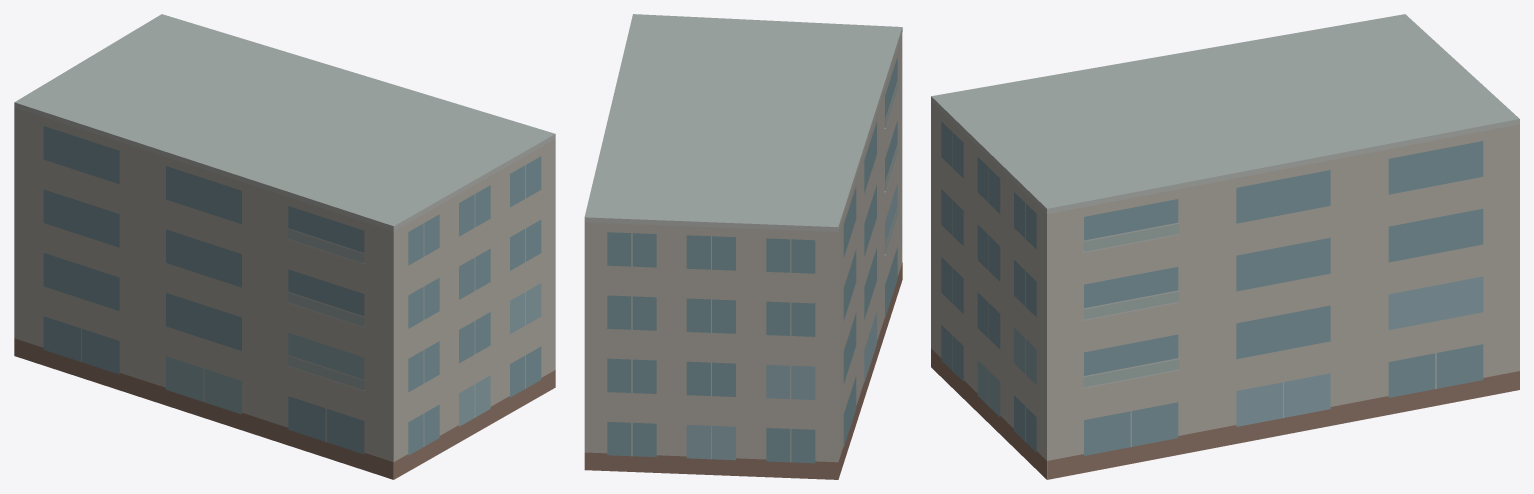
The model's file is survey-upis-32839661.glb.
The picture shows the model from 3 angles, left to right: view 1: azimuth 30°, elevation 25°; view 2: azimuth 150°, elevation 25°; view 3: azimuth 270°, elevation 25°; orthographic projection. The views are drawn at different scales.
Visible parts, largest first — view 1: survey-upis-32839661.tmp; view 2: survey-upis-32839661.tmp; view 3: survey-upis-32839661.tmp.
Boxes of the visible parts, left/top/right/bottom form: survey-upis-32839661.tmp: left=14, top=14, right=555, bottom=479; survey-upis-32839661.tmp: left=584, top=14, right=902, bottom=479; survey-upis-32839661.tmp: left=931, top=14, right=1519, bottom=479.
Bounding box in the file's own units: 19.13 × 12.4 × 24.42.
